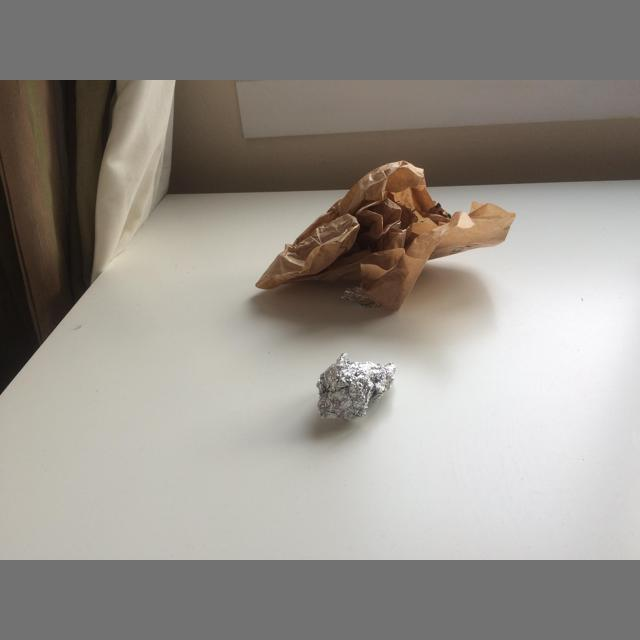litter: (255, 160, 516, 311), (316, 352, 397, 420), (341, 287, 383, 308)
